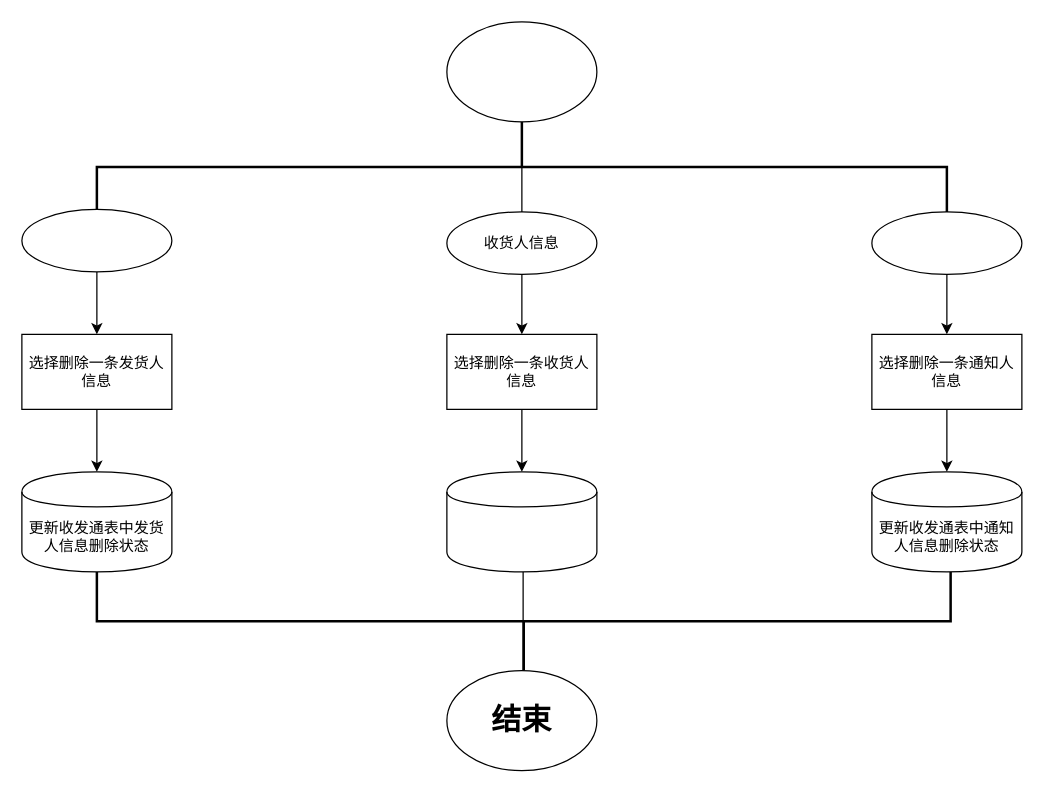
This 1044x793 diagram has some shape labels left out. Each missing label, with the centre of its shape:
"发货人信息" belongs at (96,240).
"开始" belongs at (521,71).
"更新收发通表中收货人信息删除状态" belongs at (521,521).
"通知人信息" belongs at (946,242).
